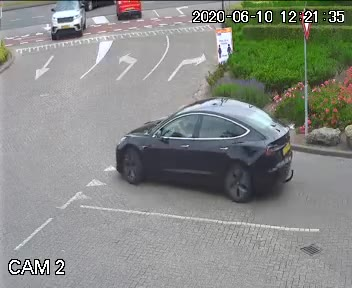car: (108, 81, 298, 213), (46, 1, 89, 39), (111, 0, 142, 20)
